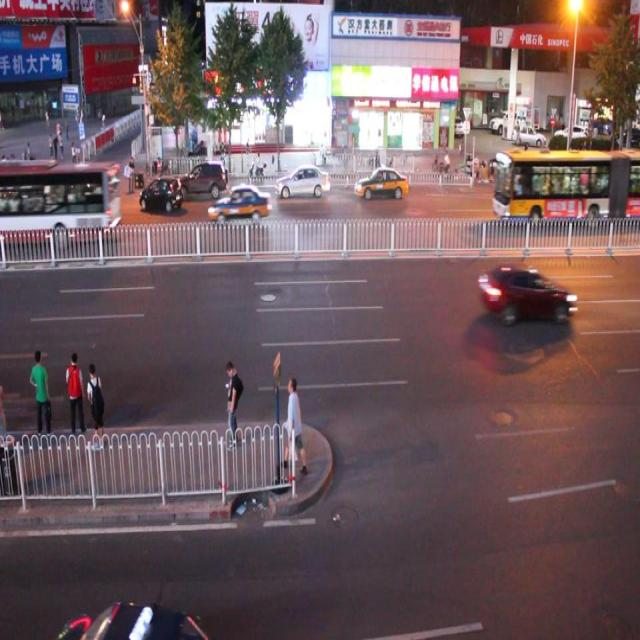car: (1, 156, 122, 246), (49, 596, 227, 640), (477, 262, 575, 326), (208, 184, 270, 222), (40, 190, 99, 225), (177, 158, 227, 199), (353, 165, 408, 202), (276, 164, 330, 199), (139, 174, 182, 212), (0, 179, 16, 212)
van: (490, 146, 640, 225)
